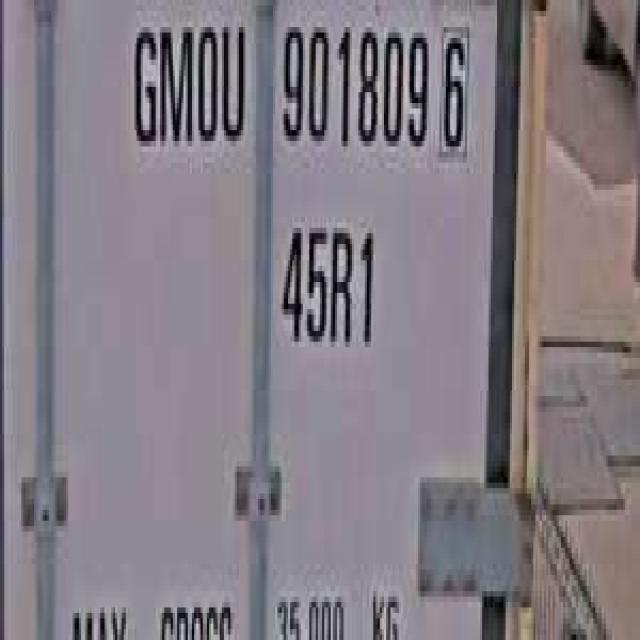dv: (435, 5, 474, 163)
owner: (126, 0, 249, 168)
serial: (275, 0, 429, 168)
size: (275, 201, 380, 363)
